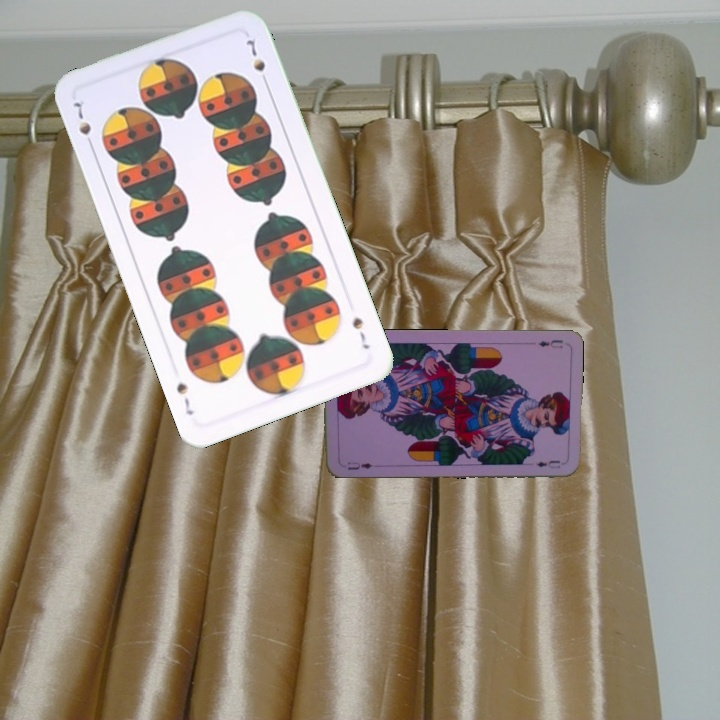EU: (535, 336, 565, 351), (344, 458, 375, 472)
S7: (69, 97, 97, 152), (348, 313, 373, 352)
